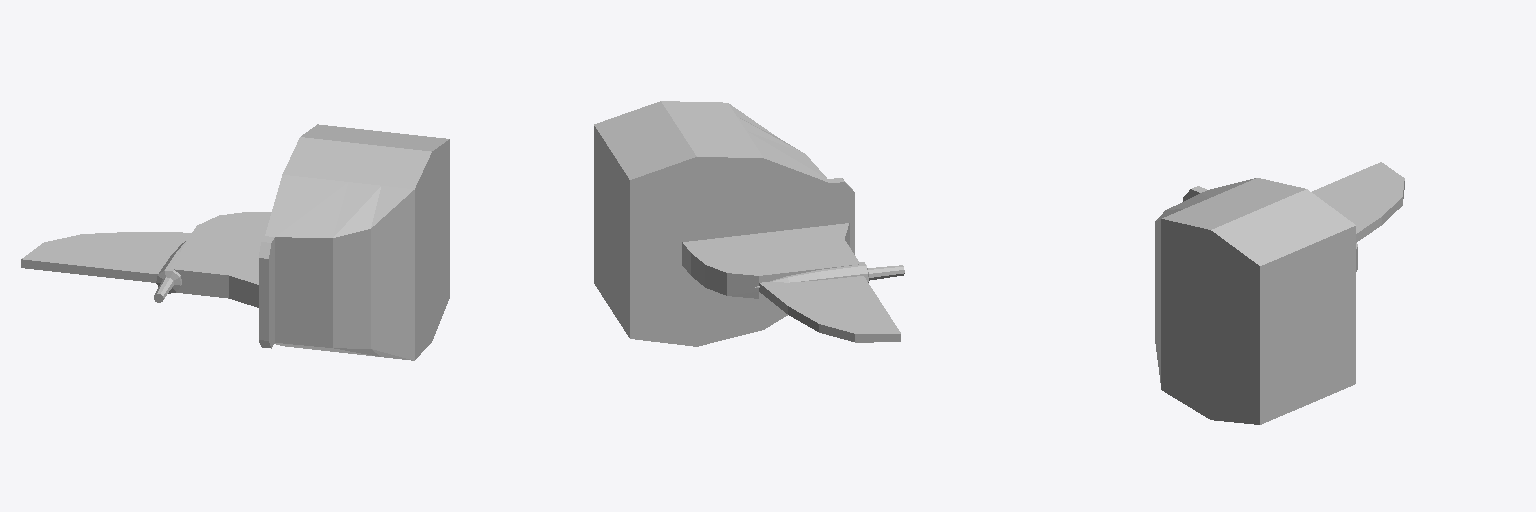
The model's file is engine.obj.
3 views of the same model, side by side, from view 1: azimuth 30°, elevation 25°; view 2: azimuth 150°, elevation 25°; view 3: azimuth 270°, elevation 25° (orthographic).
Parts seen in each view (by area): view 1: Object01; view 2: Object01; view 3: Object01.
Boxes of the visible parts, <box> form: Object01: <box>21,124,449,360</box>; Object01: <box>594,101,904,346</box>; Object01: <box>1155,162,1404,424</box>.
Size of the model in its own units: 1.06 by 0.5243 by 0.624.